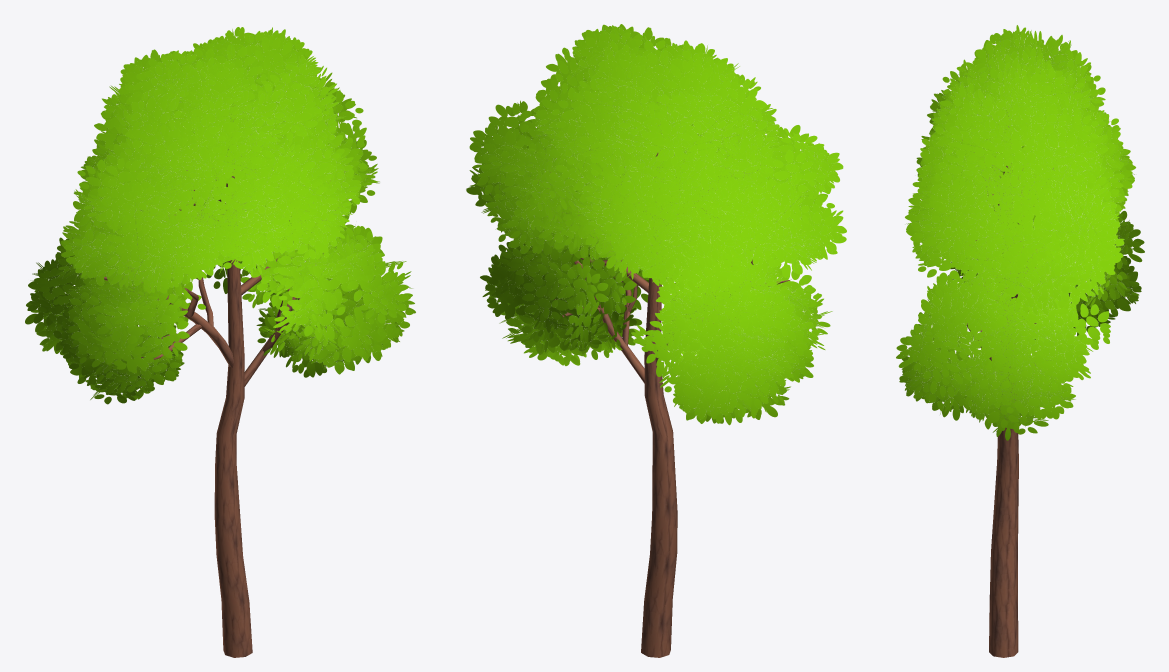
The model's file is NormalTree_1_city_upright.glb.
3 renders of one model, left to right at view 1: azimuth 30°, elevation 25°; view 2: azimuth 150°, elevation 25°; view 3: azimuth 270°, elevation 25°, orthographic. The views are drawn at different scales.
Visible parts, largest first — view 1: NormalTree_1; view 2: NormalTree_1; view 3: NormalTree_1.
Boxes of the visible parts, left/top/right/bottom form: NormalTree_1: left=25, top=27, right=415, bottom=657; NormalTree_1: left=466, top=24, right=846, bottom=657; NormalTree_1: left=896, top=25, right=1144, bottom=657.
Bounding box in the file's own units: 4.05 × 6.87 × 2.74.
Materials: 2 (2 with a texture image).
